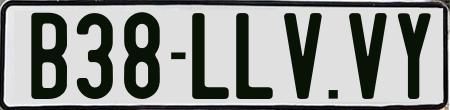3: (75, 13, 115, 104)
8: (124, 12, 160, 102)
B: (29, 10, 70, 99)
L: (189, 13, 231, 102), (233, 12, 271, 98)
V: (349, 10, 391, 102), (281, 13, 322, 100)
Y: (397, 10, 433, 102)
